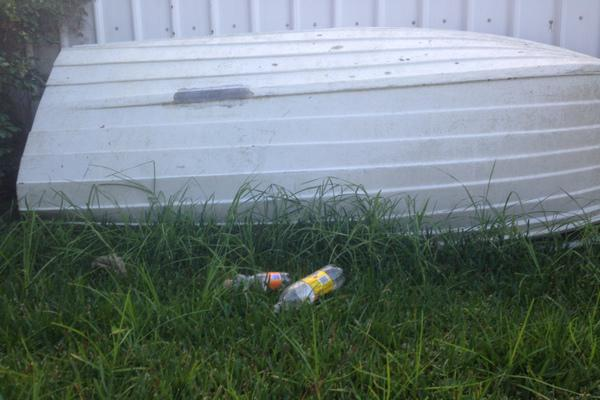Plastic Bottle: (273, 265, 346, 311), (223, 272, 291, 293)
